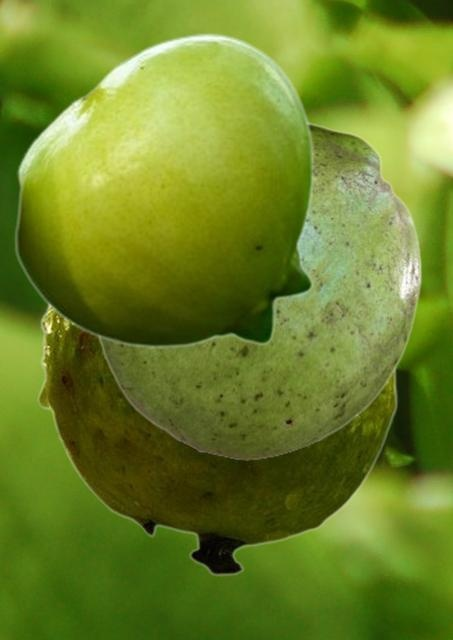guava: (97, 121, 421, 459), (37, 304, 397, 576), (13, 32, 314, 347)
